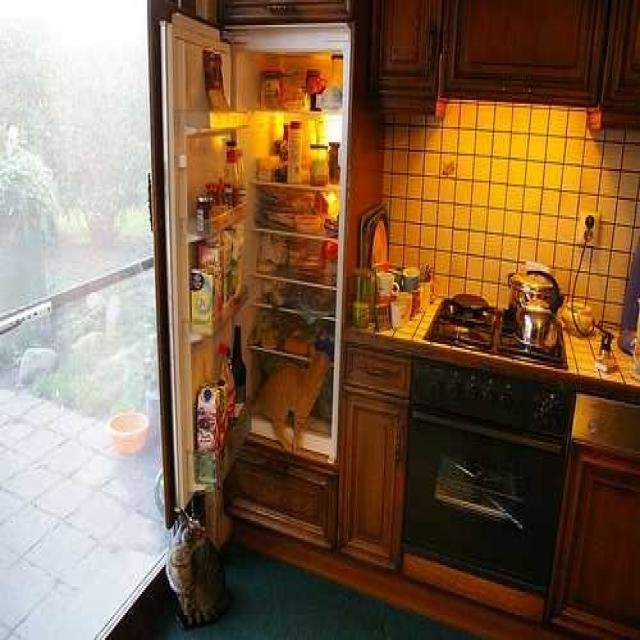refrigerator: (165, 19, 339, 461)
